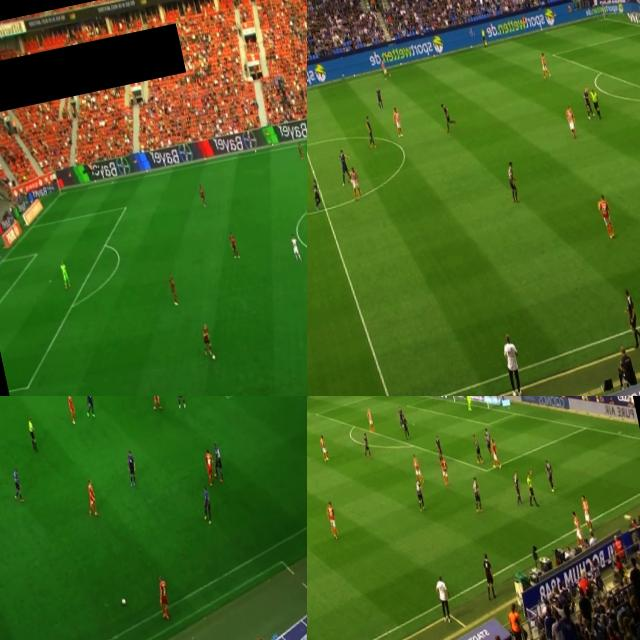ball: (208, 350, 218, 364), (119, 593, 128, 608), (572, 516, 578, 526)
player: (595, 185, 617, 238), (152, 574, 174, 618), (198, 446, 218, 486), (503, 158, 520, 202), (82, 480, 101, 519), (122, 448, 141, 487), (208, 440, 226, 481), (334, 147, 352, 186), (198, 322, 215, 362), (324, 500, 341, 540), (6, 465, 24, 500), (540, 456, 558, 491), (198, 486, 215, 522), (563, 106, 580, 140), (166, 272, 180, 312), (569, 508, 585, 543), (347, 161, 362, 198), (469, 474, 483, 512), (62, 396, 78, 426), (581, 494, 593, 534), (581, 87, 595, 120), (440, 100, 454, 133), (511, 470, 525, 503), (288, 233, 302, 265), (310, 178, 324, 210), (412, 478, 426, 510), (469, 430, 483, 462), (488, 436, 502, 468), (81, 396, 98, 422), (392, 104, 404, 140), (226, 228, 239, 260), (438, 457, 452, 486), (318, 431, 330, 462), (482, 424, 494, 455), (378, 54, 391, 82), (362, 118, 374, 148), (360, 429, 372, 458), (58, 260, 70, 288), (538, 50, 550, 77), (412, 452, 422, 482), (374, 82, 384, 110), (169, 396, 188, 410), (197, 184, 207, 210), (364, 408, 374, 432), (147, 396, 165, 409), (296, 139, 306, 162), (395, 404, 405, 426), (402, 418, 412, 438), (463, 396, 474, 413), (434, 435, 442, 456)
